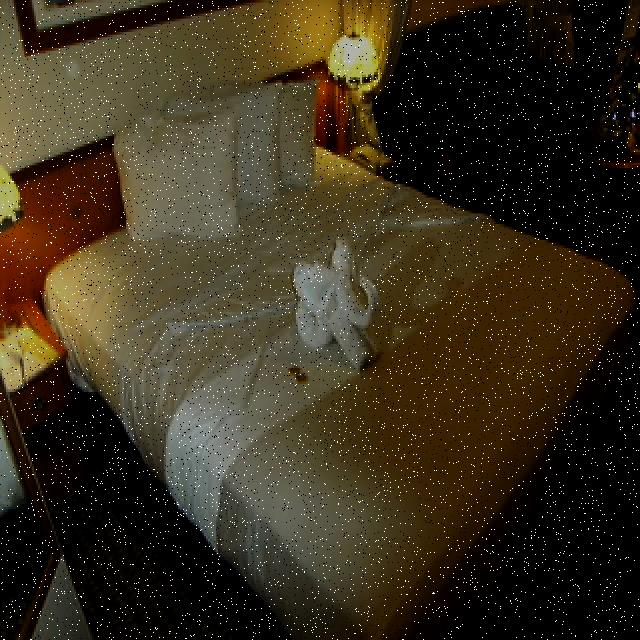bed: (51, 89, 635, 640)
